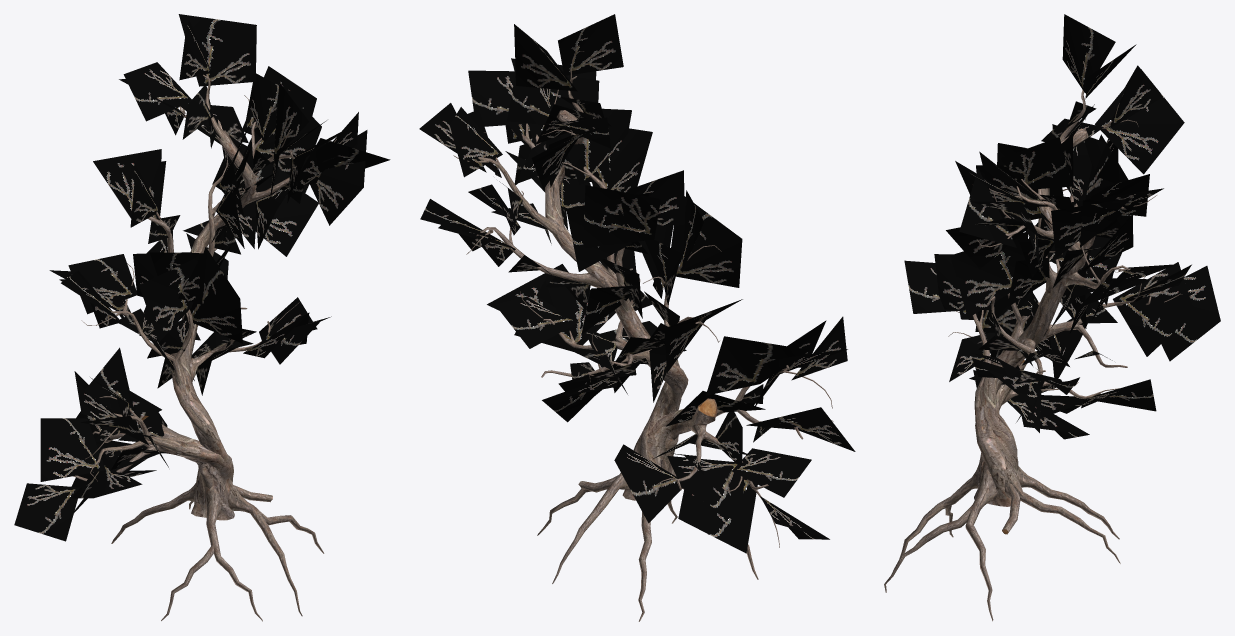
File: oldtree.glb
3 views of the same model, side by side, from view 1: azimuth 30°, elevation 25°; view 2: azimuth 150°, elevation 25°; view 3: azimuth 270°, elevation 25° (orthographic). The views are drawn at different scales.
Parts seen in each view (by area): view 1: Tree_2, Tree_0; view 2: Tree_2, Tree_0; view 3: Tree_2, Tree_0.
Part boxes in pixels (box(x1,y1,x2,y2)): Tree_2: box(14, 14, 390, 541); Tree_0: box(73, 51, 336, 621); Tree_2: box(419, 14, 855, 553); Tree_0: box(453, 51, 833, 621); Tree_2: box(904, 14, 1220, 439); Tree_0: box(884, 61, 1182, 621).
Bounding box in the file's own units: 5.71 × 8.58 × 4.65.
3 materials, 3 textured.
